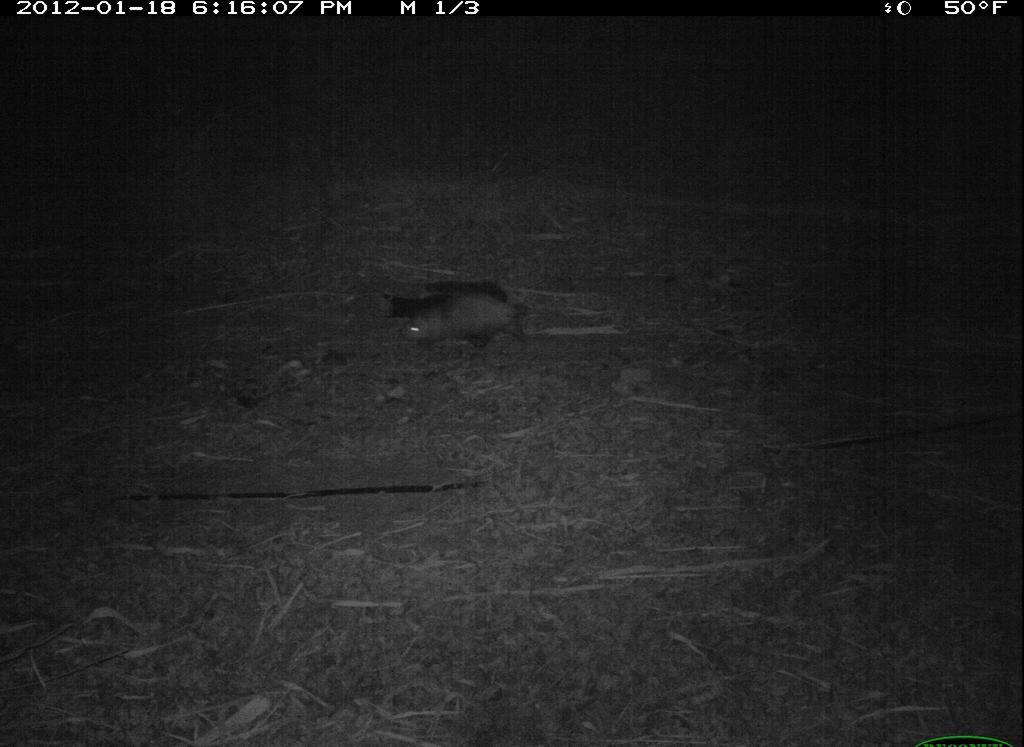opossum: (396, 280, 545, 354)
